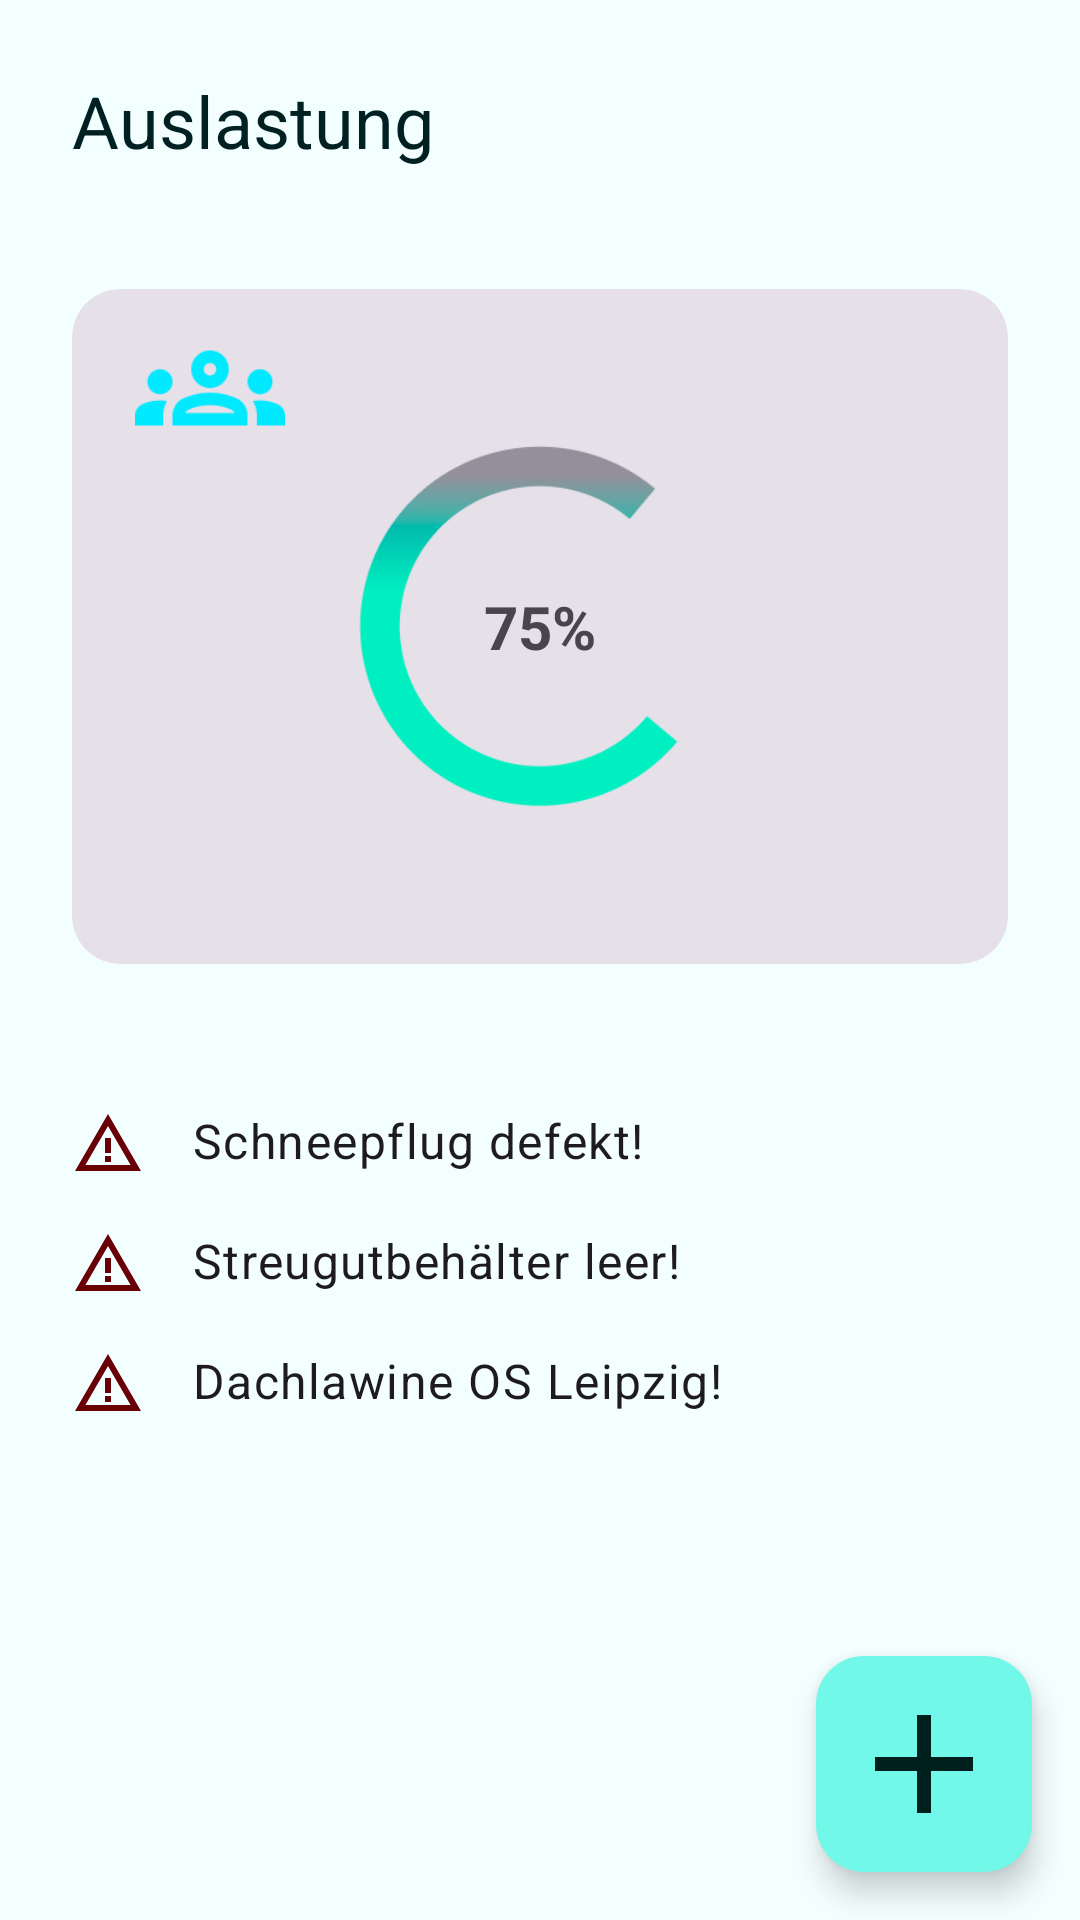

Point at icon controls on the screen. Image size 1080×1920, points as (x,y).
add: (924,1764)
persons: (210,388)
